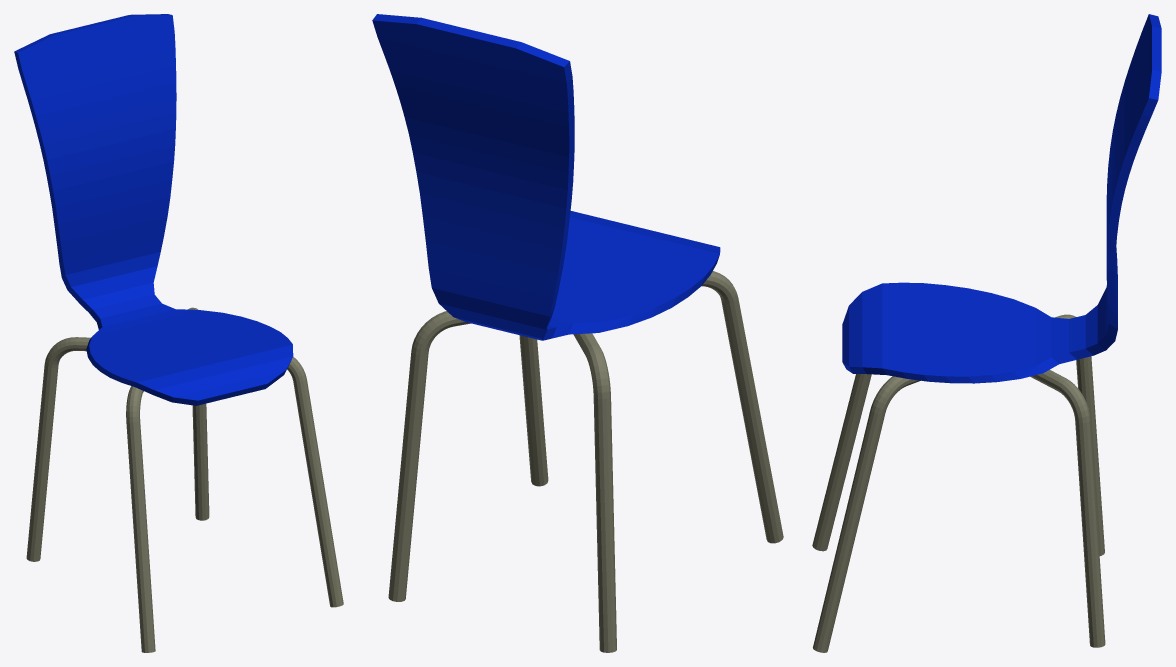
The model's file is dining-chair.obj.
3 views of the same model, side by side, from view 1: azimuth 30°, elevation 25°; view 2: azimuth 150°, elevation 25°; view 3: azimuth 270°, elevation 25° (orthographic). The views are drawn at different scales.
Visible parts, largest first — view 1: Dining_chair_Dining_chair_Dining_chair, Dining_chair_Dining_chair_Chrome; view 2: Dining_chair_Dining_chair_Dining_chair, Dining_chair_Dining_chair_Chrome; view 3: Dining_chair_Dining_chair_Dining_chair, Dining_chair_Dining_chair_Chrome.
Boxes of the visible parts, bbox=[...] form: Dining_chair_Dining_chair_Dining_chair: bbox=[14, 14, 293, 405]; Dining_chair_Dining_chair_Chrome: bbox=[26, 307, 343, 652]; Dining_chair_Dining_chair_Dining_chair: bbox=[372, 14, 720, 340]; Dining_chair_Dining_chair_Chrome: bbox=[388, 271, 783, 652]; Dining_chair_Dining_chair_Dining_chair: bbox=[842, 14, 1161, 383]; Dining_chair_Dining_chair_Chrome: bbox=[812, 314, 1105, 652].
Size of the model in its own units: 1.44 by 3.4 by 1.95.
